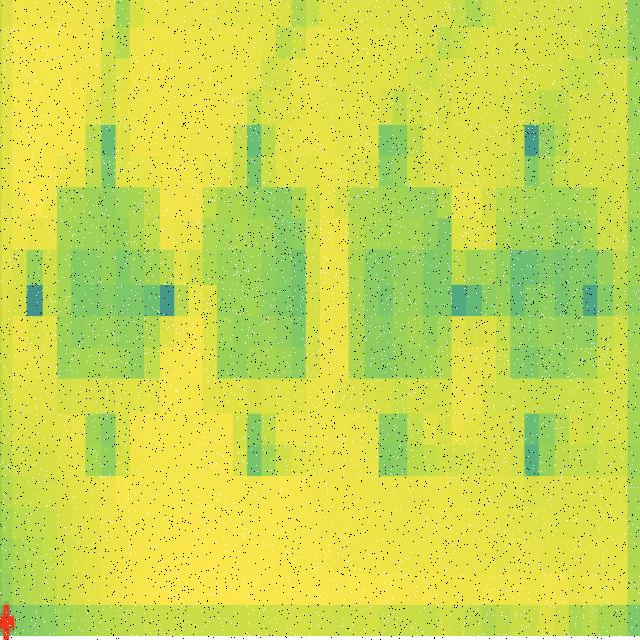Concrete: (478, 167, 612, 393)
Glass: (339, 164, 456, 396)
Metal: (51, 178, 166, 402)
Wood: (192, 170, 319, 395)
